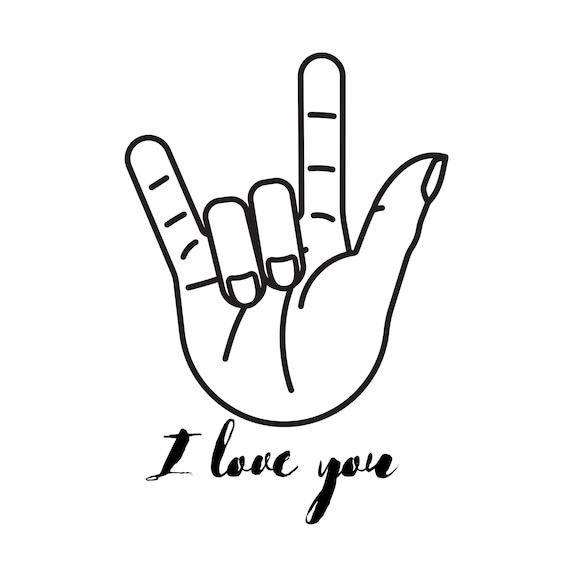Love_you: (121, 44, 455, 429)
